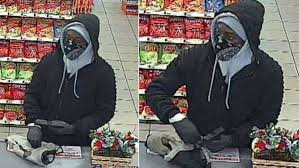mask: (208, 18, 248, 65), (60, 22, 89, 61)
